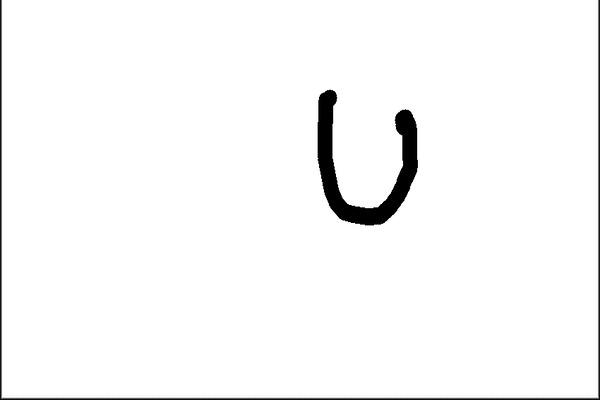U: (307, 85, 434, 240)
